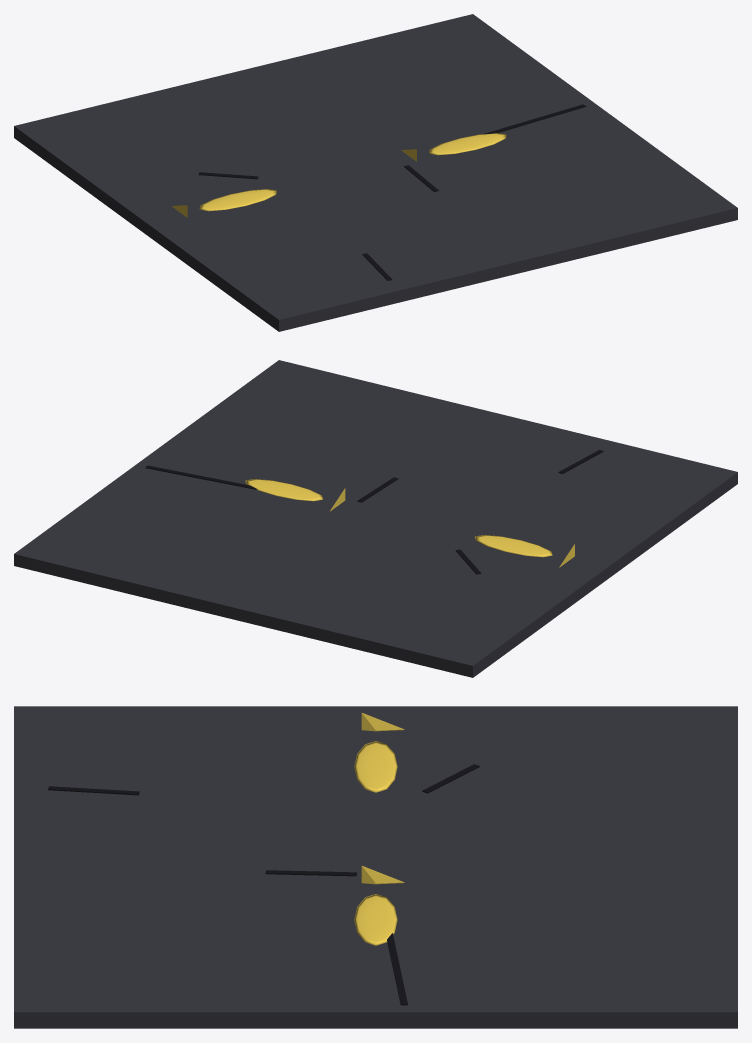
File: zc_road_tile.mobile-mid.glb
The picture shows the model from 3 angles, top to bottom: view 1: azimuth 30°, elevation 25°; view 2: azimuth 150°, elevation 25°; view 3: azimuth 270°, elevation 25°; orthographic projection. The views are drawn at different scales.
Parts seen in each view (by area): view 1: zc_road_tile; view 2: zc_road_tile; view 3: zc_road_tile.
Boxes of the visible parts, x1,y1,x2,y2 form: zc_road_tile: [14, 14, 737, 331]; zc_road_tile: [14, 360, 737, 677]; zc_road_tile: [14, 706, 737, 1028].
Bounding box in the file's own units: 2 × 0.104 × 2.
Materials: 1 (1 with a texture image).
